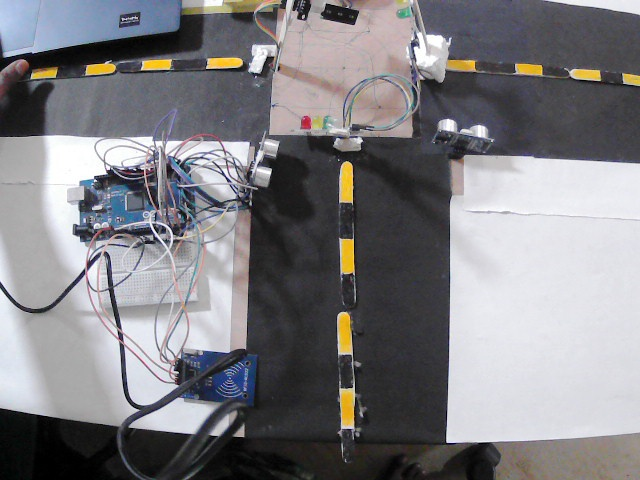black_strip: (336, 201, 358, 237), (338, 428, 358, 467), (339, 276, 357, 312), (476, 57, 514, 72), (337, 355, 355, 384), (601, 66, 623, 84), (117, 57, 141, 72), (543, 63, 571, 75), (56, 63, 84, 75)
mixed_lane: (26, 50, 244, 83), (441, 55, 638, 89), (335, 159, 356, 469)
traffic_light: (282, 102, 367, 150), (390, 0, 431, 51), (311, 2, 372, 26)
uno_breadboard: (57, 169, 196, 238), (87, 243, 206, 317), (156, 336, 260, 409), (247, 131, 279, 193), (434, 123, 492, 153), (278, 140, 279, 141)
yellow_strip: (336, 387, 358, 426), (336, 313, 356, 351), (338, 240, 356, 276), (340, 159, 356, 198), (444, 55, 475, 72), (572, 64, 600, 81), (516, 61, 543, 78), (208, 54, 244, 66), (32, 68, 59, 83), (86, 58, 113, 72), (142, 58, 169, 69), (626, 74, 640, 87)
